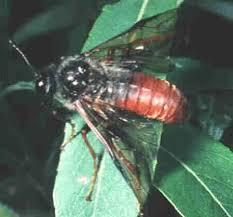Insects: (3, 0, 198, 217)
